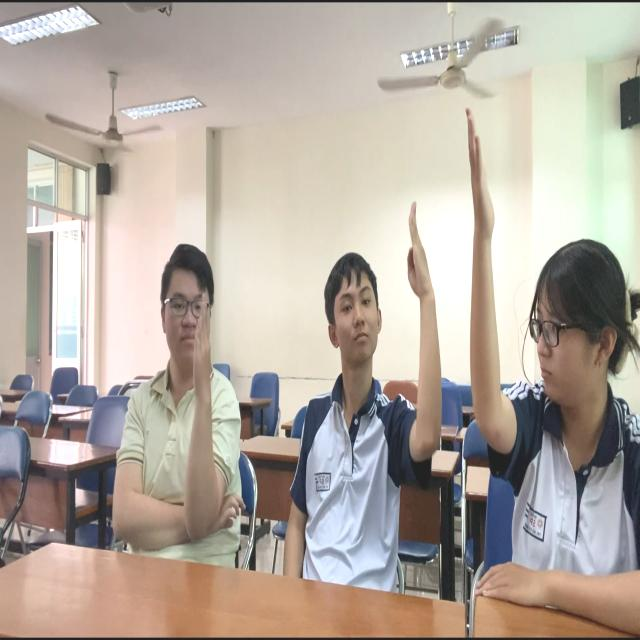raise_hand: (455, 102, 640, 637), (270, 184, 451, 605), (91, 230, 266, 563)
